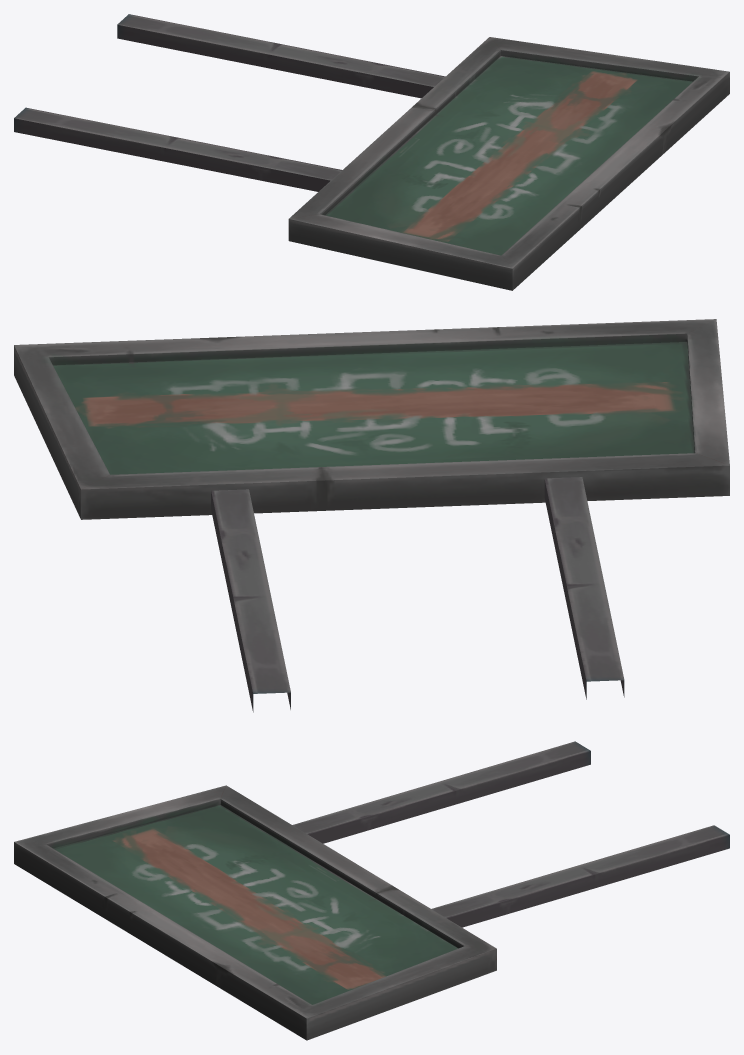
The picture shows the model from 3 angles, top to bottom: view 1: azimuth 30°, elevation 25°; view 2: azimuth 150°, elevation 25°; view 3: azimuth 270°, elevation 25°; orthographic projection. The views are drawn at different scales.
Visible parts, largest first — view 1: wj_objects_02_2; view 2: wj_objects_02_2; view 3: wj_objects_02_2.
Boxes of the visible parts, bbox=[...] form: wj_objects_02_2: bbox=[14, 14, 729, 290]; wj_objects_02_2: bbox=[14, 319, 729, 712]; wj_objects_02_2: bbox=[14, 741, 729, 1040].
Size of the model in its own units: 1040 by 1120 by 37.94.
